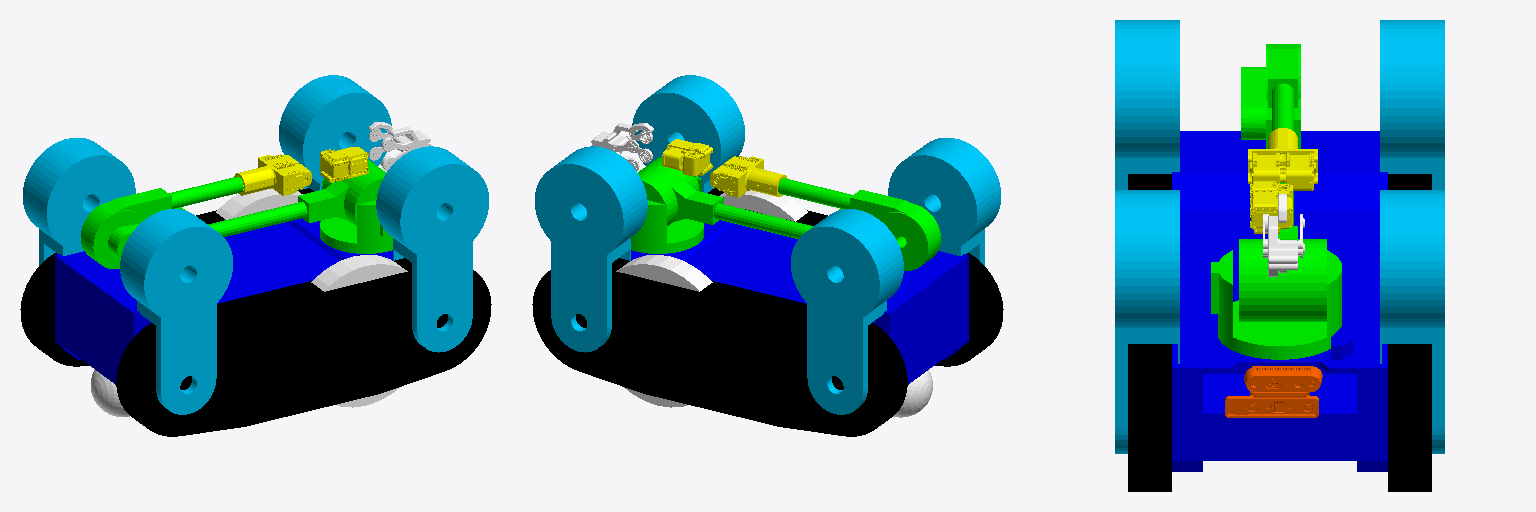
--- Render facts (derived) ---
The picture shows the robot from 3 angles, left to right: view 1: azimuth 30°, elevation 25°; view 2: azimuth 150°, elevation 25°; view 3: azimuth 270°, elevation 25°; orthographic projection.
Robot: arbie — 29 links, 28 joints (17 continuous, 11 fixed); root link base_link; default pose: every joint at zero.
Links seen in each view (by area): view 1: tracks_right_link, flipper_front_right_link, flipper_rear_right_link, body_link, flipper_rear_left_link, flipper_front_left_link, arm_lower_link, tracks_left_link, arm_upper_link, arm_base_link, tracks_right_wheel_link, wrist_base_link (+4 smaller); view 2: tracks_left_link, flipper_front_left_link, flipper_rear_left_link, body_link, flipper_rear_right_link, flipper_front_right_link, arm_lower_link, tracks_right_link, arm_upper_link, arm_base_link, tracks_left_wheel_link, wrist_base_link (+4 smaller); view 3: body_link, flipper_front_right_link, flipper_front_left_link, flipper_rear_right_link, flipper_rear_left_link, arm_lower_link, tracks_right_link, tracks_left_link, arm_base_link, wrist_base_link, arm_upper_link, camera_t265_link (+3 smaller).
Boxes of the visible links, bbox=[...] form: tracks_right_link: bbox=[116, 258, 491, 436]; flipper_front_right_link: bbox=[376, 146, 488, 352]; flipper_rear_right_link: bbox=[120, 209, 232, 414]; body_link: bbox=[55, 218, 392, 384]; flipper_rear_left_link: bbox=[23, 138, 135, 265]; flipper_front_left_link: bbox=[279, 75, 391, 191]; arm_lower_link: bbox=[81, 160, 385, 268]; tracks_left_link: bbox=[20, 188, 313, 366]; arm_upper_link: bbox=[81, 177, 243, 263]; arm_base_link: bbox=[320, 179, 392, 253]; tracks_right_wheel_link: bbox=[311, 255, 407, 407]; wrist_base_link: bbox=[234, 154, 311, 195]; tracks_left_link: bbox=[532, 258, 907, 436]; flipper_front_left_link: bbox=[535, 146, 647, 352]; flipper_rear_left_link: bbox=[791, 209, 903, 414]; body_link: bbox=[631, 220, 968, 384]; flipper_rear_right_link: bbox=[888, 138, 1000, 265]; flipper_front_right_link: bbox=[632, 75, 744, 192]; arm_lower_link: bbox=[638, 157, 940, 270]; tracks_right_link: bbox=[708, 188, 1003, 366]; arm_upper_link: bbox=[778, 178, 939, 263]; arm_base_link: bbox=[631, 176, 703, 253]; tracks_left_wheel_link: bbox=[616, 255, 712, 407]; wrist_base_link: bbox=[710, 156, 787, 197]; body_link: bbox=[1172, 131, 1387, 471]; flipper_front_right_link: bbox=[1115, 190, 1179, 453]; flipper_front_left_link: bbox=[1380, 190, 1444, 453]; flipper_rear_right_link: bbox=[1115, 20, 1179, 189]; flipper_rear_left_link: bbox=[1380, 20, 1444, 189]; arm_lower_link: bbox=[1239, 44, 1326, 321]; tracks_right_link: bbox=[1128, 174, 1171, 491]; tracks_left_link: bbox=[1388, 174, 1431, 491]; arm_base_link: bbox=[1211, 250, 1341, 359]; wrist_base_link: bbox=[1248, 128, 1317, 190]; arm_upper_link: bbox=[1268, 44, 1297, 130]; camera_t265_link: bbox=[1225, 396, 1318, 417].
Bounding box of the posed robot: 0.6448 × 0.378 × 0.3946 m (x, y, z).
Meshes: 25 distinct files referenced, 23 mesh visuals loaded (23 binary STL); not drawn: 2 (reference not matched to a file when rendering).

The robot description file, URDF, robot "arbie":
<?xml version="1.0" encoding="utf-8"?>
<!-- =================================================================================== -->
<!-- |    This document was autogenerated by xacro from arbie_sim.urdf.xacro           | -->
<!-- |    EDITING THIS FILE BY HAND IS NOT RECOMMENDED                                 | -->
<!-- =================================================================================== -->
<robot name="arbie">
  <material name="body">
    <color rgba="0 0 1 1"/>
  </material>
  <material name="flipper">
    <color rgba="0 0.8 1 1"/>
  </material>
  <material name="tracks">
    <color rgba="0 0 0 0.5"/>
  </material>
  <material name="wheel">
    <color rgba="1 1 1 0.8"/>
  </material>
  <material name="arm">
    <color rgba="0 1 0 1"/>
  </material>
  <material name="wrist">
    <color rgba="1 1 0 1"/>
  </material>
  <material name="gripper">
    <color rgba="1 1 1 1"/>
  </material>
  <material name="camera">
    <color rgba="1 0.4 0 1"/>
  </material>
  <!-- CAMERA FRAMES AND PLUGINS PLUGINS -->
  <gazebo reference="camera_t265_link">
    <sensor name="t265_camera" type="multicamera">
      <update_rate>30.0</update_rate>
      <camera name="left">
        <pose>0 0.035 0 0 0 0</pose>
        <horizontal_fov>1.3962634</horizontal_fov>
        <image>
          <width>800</width>
          <height>800</height>
          <format>R8G8B8</format>
        </image>
        <clip>
          <near>0.02</near>
          <far>300</far>
        </clip>
        <noise>
          <type>gaussian</type>
          <mean>0.0</mean>
          <stddev>0.007</stddev>
        </noise>
      </camera>
      <camera name="right">
        <pose>0 -0.035 0 0 0 0</pose>
        <horizontal_fov>1.3962634</horizontal_fov>
        <image>
          <width>800</width>
          <height>800</height>
          <format>R8G8B8</format>
        </image>
        <clip>
          <near>0.02</near>
          <far>300</far>
        </clip>
        <noise>
          <type>gaussian</type>
          <mean>0.0</mean>
          <stddev>0.007</stddev>
        </noise>
      </camera>
      <plugin filename="libgazebo_ros_multicamera.so" name="t265_camera_controller">
        <alwaysOn>true</alwaysOn>
        <updateRate>0.0</updateRate>
        <cameraName>t265</cameraName>
        <imageTopicName>image_raw</imageTopicName>
        <cameraInfoTopicName>camera_info</cameraInfoTopicName>
        <frameName>camera_t265_link</frameName>
        <hackBaseline>0.07</hackBaseline>
        <distortionK1>0.0</distortionK1>
        <distortionK2>0.0</distortionK2>
        <distortionK3>0.0</distortionK3>
        <distortionT1>0.0</distortionT1>
        <distortionT2>0.0</distortionT2>
      </plugin>
    </sensor>
  </gazebo>
  <gazebo reference="camera_t265_link">
    <gravity>true</gravity>
    <sensor name="t265_imu" type="imu">
      <always_on>true</always_on>
      <update_rate>30.0</update_rate>
      <visualize>true</visualize>
      <topic>/t265/imu</topic>
      <plugin filename="libgazebo_ros_imu_sensor.so" name="t265_imu_controller">
        <topicName>/t265/imu</topicName>
        <bodyName>camera_t265_link</bodyName>
        <updateRateHZ>10.0</updateRateHZ>
        <gaussianNoise>0.0</gaussianNoise>
        <xyzOffset>0 0 0</xyzOffset>
        <rpyOffset>0 0 0</rpyOffset>
        <frameName>camera_t265_link</frameName>
        <initialOrientationAsReference>false</initialOrientationAsReference>
      </plugin>
      <pose>0 0 0 0 0 0</pose>
    </sensor>
  </gazebo>
  <gazebo reference="camera_d435_link">
    <sensor name="d435_camera" type="depth">
      <update_rate>30.0</update_rate>
      <camera>
        <horizontal_fov>1.047198</horizontal_fov>
        <image>
          <width>640</width>
          <height>480</height>
          <format>R8G8B8</format>
        </image>
        <clip>
          <near>0.05</near>
          <far>300</far>
        </clip>
      </camera>
      <plugin filename="libgazebo_ros_openni_kinect.so" name="d435_camera_controller">
        <baseline>0.2</baseline>
        <alwaysOn>true</alwaysOn>
        <updateRate>1.0</updateRate>
        <cameraName>d435</cameraName>
        <imageTopicName>/d435/color/image_raw</imageTopicName>
        <cameraInfoTopicName>/d435/color/camera_info</cameraInfoTopicName>
        <depthImageTopicName>/d435/depth/image_raw</depthImageTopicName>
        <depthImageInfoTopicName>/d435/depth/camera_info</depthImageInfoTopicName>
        <pointCloudTopicName>/d435/depth/points</pointCloudTopicName>
        <frameName>camera_d435_link</frameName>
        <pointCloudCutoff>0.5</pointCloudCutoff>
        <pointCloudCutoffMax>3.0</pointCloudCutoffMax>
        <distortionK1>0.00000001</distortionK1>
        <distortionK2>0.00000001</distortionK2>
        <distortionK3>0.00000001</distortionK3>
        <distortionT1>0.00000001</distortionT1>
        <distortionT2>0.00000001</distortionT2>
        <CxPrime>0</CxPrime>
        <Cx>0</Cx>
        <Cy>0</Cy>
        <focalLength>0</focalLength>
        <hackBaseline>0</hackBaseline>
      </plugin>
    </sensor>
  </gazebo>
  <gazebo reference="camera_d435_link">
    <gravity>true</gravity>
    <sensor name="d435_imu" type="imu">
      <always_on>true</always_on>
      <update_rate>30.0</update_rate>
      <visualize>true</visualize>
      <topic>/d435/imu</topic>
      <plugin filename="libgazebo_ros_imu_sensor.so" name="d435_imu_controller">
        <topicName>/d435/imu</topicName>
        <bodyName>camera_d435_link</bodyName>
        <updateRateHZ>10.0</updateRateHZ>
        <gaussianNoise>0.0</gaussianNoise>
        <xyzOffset>0 0 0</xyzOffset>
        <rpyOffset>0 0 0</rpyOffset>
        <frameName>camera_d435_link</frameName>
        <initialOrientationAsReference>false</initialOrientationAsReference>
      </plugin>
      <pose>0 0 0 0 0 0</pose>
    </sensor>
  </gazebo>
  <!-- BASE LINK -->
  <link name="base_link">
</link>
  <joint name="base_joint" type="fixed">
    <origin rpy="1.5708 0 1.5708" xyz="0.01 0 0.075"/>
    <parent link="base_link"/>
    <child link="body_link"/>
  </joint>
  <!-- BODY LINK -->
  <link name="body_link">
    <inertial>
      <origin rpy="0 0 0" xyz="-0.0007103904794560104 0.04685539726506198 -0.03652499028281223"/>
      <mass value="132.38352048208554"/>
      <inertia ixx="3.87908" ixy="-0.00108" ixz="-0.002599" iyy="4.409886" iyz="0.163573" izz="0.920138"/>
    </inertial>
    <visual>
      <origin rpy="0 0 0" xyz="0 0 0"/>
      <geometry>
        <mesh filename="package://arbie_description/meshes/body.stl"/>
      </geometry>
      <material name="body"/>
    </visual>
    <collision>
      <origin rpy="0 0 0" xyz="0 0 0"/>
      <geometry>
        <mesh filename="package://arbie_description/meshes/body.stl"/>
      </geometry>
    </collision>
  </link>
  <!-- CAMERA LINKS -->
  <link name="camera_mount_leg_1_link">
    <inertial>
      <origin rpy="0 0 0" xyz="-0.003687719231986318 0.005710165082249932 -1.3429420225863353e-07"/>
      <mass value="0.011972469965960587"/>
      <inertia ixx="1e-06" ixy="0.0" ixz="-0.0" iyy="0.0" iyz="0.0" izz="1e-06"/>
    </inertial>
    <visual>
      <origin rpy="0 0 0" xyz="-0.037807 -0.048101 -0.262572"/>
      <geometry>
        <mesh filename="package://arbie_description/meshes/camera_mount_leg_1.stl"/>
      </geometry>
      <material name="camera"/>
    </visual>
    <collision>
      <origin rpy="0 0 0" xyz="-0.037807 -0.048101 -0.262572"/>
      <geometry>
        <mesh filename="package://arbie_description/meshes/camera_mount_leg_1.stl"/>
      </geometry>
    </collision>
  </link>
  <link name="camera_mount_leg_2_link">
    <inertial>
      <origin rpy="0 0 0" xyz="0.0036876320544024996 0.005710165082249995 -1.3429420259170044e-07"/>
      <mass value="0.011972469965960601"/>
      <inertia ixx="1e-06" ixy="-0.0" ixz="0.0" iyy="0.0" iyz="-0.0" izz="1e-06"/>
    </inertial>
    <visual>
      <origin rpy="0 0 0" xyz="0.039194 -0.048101 -0.262572"/>
      <geometry>
        <mesh filename="package://arbie_description/meshes/camera_mount_leg_2.stl"/>
      </geometry>
      <material name="camera"/>
    </visual>
    <collision>
      <origin rpy="0 0 0" xyz="0.039194 -0.048101 -0.262572"/>
      <geometry>
        <mesh filename="package://arbie_description/meshes/camera_mount_leg_2.stl"/>
      </geometry>
    </collision>
  </link>
  <link name="camera_mount_link">
    <inertial>
      <origin rpy="0 0 0" xyz="-0.03446385172095636 0.0015631569649731947 0.008958079682170272"/>
      <mass value="0.10512980225278633"/>
      <inertia ixx="1.6e-05" ixy="-2e-06" ixz="1e-06" iyy="5.6e-05" iyz="3e-06" izz="5.4e-05"/>
    </inertial>
    <visual>
      <origin rpy="0 0 0" xyz="-0.033807 -0.073851 -0.262572"/>
      <geometry>
        <mesh filename="package://arbie_description/meshes/camera_mount.stl"/>
      </geometry>
      <material name="camera"/>
    </visual>
    <collision>
      <origin rpy="0 0 0" xyz="-0.033807 -0.073851 -0.262572"/>
      <geometry>
        <mesh filename="package://arbie_description/meshes/camera_mount.stl"/>
      </geometry>
    </collision>
  </link>
  <link name="camera_d435_link">
    <inertial>
      <origin rpy="-1.57079632679 -3.14159265359 -1.57079632679" xyz="-0.00997485340212 -0.000489026194926 0.000287807668346"/>
      <mass value="0.3380578483539848"/>
      <inertia ixx="3.1e-05" ixy="-0.0" ixz="2e-06" iyy="0.000212" iyz="-0.0" izz="0.000211"/>
    </inertial>
    <visual>
      <origin rpy="-1.57079632679 -3.14159265359 -1.57079632679" xyz="-0.285 0.00125 -0.09"/>
      <geometry>
        <mesh filename="package://arbie_description/meshes/camera_d435.stl"/>
      </geometry>
      <material name="camera"/>
    </visual>
    <collision>
      <origin rpy="-1.57079632679 -3.14159265359 -1.57079632679" xyz="-0.285 0.00125 -0.09"/>
      <geometry>
        <mesh filename="package://arbie_description/meshes/camera_d435.stl"/>
      </geometry>
    </collision>
  </link>
  <joint name="rigid_camera_mount_to_camera_d435_joint" type="fixed">
    <origin rpy="-1.57079632679 -1.57079632679 0" xyz="-0.032557 0.016149 0.022428"/>
    <parent link="camera_mount_link"/>
    <child link="camera_d435_link"/>
  </joint>
  <link name="camera_t265_link">
    <inertial>
      <origin rpy="-1.57079632679 -3.14159265359 -1.57079632679" xyz="-0.0051159762466 0.00725377525549 0"/>
      <mass value="0.11087104010777465"/>
      <inertia ixx="7e-06" ixy="0.0" ixz="-1e-06" iyy="0.000103" iyz="-0.0" izz="0.000108"/>
    </inertial>
    <visual>
      <origin rpy="-1.57079632679 -3.14159265359 -1.57079632679" xyz="-0.286572 -0.000323 -0.060351 "/>
      <geometry>
        <mesh filename="package://arbie_description/meshes/camera_t265.stl"/>
      </geometry>
      <material name="camera"/>
    </visual>
    <collision>
      <origin rpy="-1.57079632679 -3.14159265359 -1.57079632679" xyz="-0.286572 -0.000323 -0.060351 "/>
      <geometry>
        <mesh filename="package://arbie_description/meshes/camera_t265.stl"/>
      </geometry>
    </collision>
  </link>
  <joint name="rigid_camera_mount_to_camera_t265_joint" type="fixed">
    <origin rpy="-1.57079632679 -1.57079632679 0" xyz="-0.03413 -0.0135 0.024"/>
    <parent link="camera_mount_link"/>
    <child link="camera_t265_link"/>
  </joint>
  <!-- BOUNDING MESH FOR TRACKS -->
  <link name="tracks_right_link">
    <inertial>
      <origin rpy="0 0 0" xyz="-0.02499954358879042 0.002120489076708521 -0.0007430080149572974"/>
      <mass value="44.76242127990538"/>
      <inertia ixx="1.472289" ixy="-0.0" ixz="-0.0" iyy="1.350001" iyz="0.000109" izz="0.140939"/>
    </inertial>
    <visual>
      <origin rpy="0 0 0" xyz="0.124694 -0.019326 0.010978"/>
      <geometry>
        <mesh filename="package://arbie_description/meshes/tracks_right.stl"/>
      </geometry>
      <material name="tracks"/>
    </visual>
    <collision>
      <origin rpy="0 0 0" xyz="0.124694 -0.019326 0.010978"/>
      <geometry>
        <mesh filename="package://arbie_description/meshes/tracks_right.stl"/>
      </geometry>
    </collision>
  </link>
  <link name="tracks_left_link">
    <inertial>
      <origin rpy="0 0 0" xyz="0.02500045641121243 0.00212048907670849 -0.000743015955378042"/>
      <mass value="44.76242127990538"/>
      <inertia ixx="1.472289" ixy="-0.0" ixz="-0.0" iyy="1.350001" iyz="0.000109" izz="0.140939"/>
    </inertial>
    <visual>
      <origin rpy="0 0 0" xyz="-0.123306 -0.019326 0.010978"/>
      <geometry>
        <mesh filename="package://arbie_description/meshes/tracks_left.stl"/>
      </geometry>
      <material name="tracks"/>
    </visual>
    <collision>
      <origin rpy="0 0 0" xyz="-0.123306 -0.019326 0.010978"/>
      <geometry>
        <mesh filename="package://arbie_description/meshes/tracks_left.stl"/>
      </geometry>
    </collision>
  </link>
  <!-- RIGID JOINTS -->
  <joint name="rigid_body_to_tracks_right_joint" type="fixed">
    <origin rpy="0 0 0" xyz="-0.124694 0.019326 -0.010978"/>
    <parent link="body_link"/>
    <child link="tracks_right_link"/>
  </joint>
  <joint name="rigid_body_to_tracks_left_joint" type="fixed">
    <origin rpy="0 0 0" xyz="0.123306 0.019326 -0.010978"/>
    <parent link="body_link"/>
    <child link="tracks_left_link"/>
  </joint>
  <joint name="rigid_body_to_camera_mount_leg_1_joint" type="fixed">
    <origin rpy="0 0 0" xyz="0.037807 0.048101 0.262572"/>
    <parent link="body_link"/>
    <child link="camera_mount_leg_1_link"/>
  </joint>
  <joint name="rigid_body_to_camera_mount_leg_2_joint" type="fixed">
    <origin rpy="0 0 0" xyz="-0.039194 0.048101 0.262572"/>
    <parent link="body_link"/>
    <child link="camera_mount_leg_2_link"/>
  </joint>
  <!-- CAMERA MOUNT JOINT -->
  <joint name="camera_tilt_joint" type="continuous">
    <origin rpy="0 0 0" xyz="-0.004 0.02575 0.0"/>
    <parent link="camera_mount_leg_1_link"/>
    <child link="camera_mount_link"/>
    <axis xyz="1 0 0"/>
  </joint>
  <transmission name="camera_mount_transmission">
    <type>transmission_interface/SimpleTransmission</type>
    <joint name="camera_tilt_joint">
      <hardwareInterface>hardware_interface/PositionJointInterface</hardwareInterface>
    </joint>
    <actuator name="camera_mount_actuator">
      <hardwareInterface>PositionJointInterface</hardwareInterface>
      <mechanicalReduction>1</mechanicalReduction>
    </actuator>
  </transmission>
  <!-- EQUIVALENT WHEELS FOR TRACKS - USED TO CALCULATE VELOCITY COMMANDS -->
  <link name="tracks_right_wheel_link">
    <visual>
      <origin rpy="0 1.57079632679 0" xyz="0 0 0"/>
      <geometry>
        <cylinder length="0.04" radius="0.12"/>
      </geometry>
      <material name="wheel"/>
    </visual>
    <collision>
      <origin rpy="0 1.57079632679 0" xyz="0 0 0"/>
      <geometry>
        <cylinder length="0.04" radius="0.12"/>
      </geometry>
    </collision>
    <inertial>
      <origin rpy="0 1.57079632679 0" xyz="0 0 0"/>
      <mass value="0.5"/>
      <inertia ixx="0.00186666666667" ixy="0" ixz="0" iyy="0.00186666666667" iyz="0" izz="0.0036"/>
    </inertial>
  </link>
  <link name="tracks_left_wheel_link">
    <visual>
      <origin rpy="0 1.57079632679 0" xyz="0 0 0"/>
      <geometry>
        <cylinder length="0.04" radius="0.12"/>
      </geometry>
      <material name="wheel"/>
    </visual>
    <collision>
      <origin rpy="0 1.57079632679 0" xyz="0 0 0"/>
      <geometry>
        <cylinder length="0.04" radius="0.12"/>
      </geometry>
    </collision>
    <inertial>
      <origin rpy="0 1.57079632679 0" xyz="0 0 0"/>
      <mass value="0.5"/>
      <inertia ixx="0.00186666666667" ixy="0" ixz="0" iyy="0.00186666666667" iyz="0" izz="0.0036"/>
    </inertial>
  </link>
  <!-- TRACK WHEEL JOINTS -->
  <joint name="tracks_right_joint" type="continuous">
    <origin rpy="0 0 0" xyz="-0.025 0.005 0.1"/>
    <parent link="tracks_right_link"/>
    <child link="tracks_right_wheel_link"/>
    <axis xyz="1 0 0"/>
  </joint>
  <joint name="tracks_left_joint" type="continuous">
    <origin rpy="0 0 0" xyz="0.025 0.005 0.1"/>
    <parent link="tracks_left_link"/>
    <child link="tracks_left_wheel_link"/>
    <axis xyz="1 0 0"/>
  </joint>
  <transmission name="tracks_right_transmission">
    <type>transmission_interface/SimpleTransmission</type>
    <joint name="tracks_right_joint">
      <hardwareInterface>hardware_interface/VelocityJointInterface</hardwareInterface>
    </joint>
    <actuator name="tracks_right_actuator">
      <hardwareInterface>VelocityJointInterface</hardwareInterface>
      <mechanicalReduction>1</mechanicalReduction>
    </actuator>
  </transmission>
  <transmission name="tracks_left_transmission">
    <type>transmission_interface/SimpleTransmission</type>
    <joint name="tracks_left_joint">
      <hardwareInterface>hardware_interface/VelocityJointInterface</hardwareInterface>
    </joint>
    <actuator name="tracks_left_actuator">
      <hardwareInterface>VelocityJointInterface</hardwareInterface>
      <mechanicalReduction>1</mechanicalReduction>
    </actuator>
  </transmission>
  <!-- BALL -->
  <link name="ball_link">
    <visual>
      <geometry>
        <sphere radius="0.05"/>
      </geometry>
      <material name="wheel"/>
    </visual>
    <collision>
      <geometry>
        <sphere radius="0.05"/>
      </geometry>
    </collision>
    <inertial>
      <mass value="1"/>
      <inertia ixx="0.001" ixy="0" ixz="0" iyy="0.001" iyz="0" izz="0.001"/>
    </inertial>
  </link>
  <gazebo reference="ball_link">
    <mu1>0</mu1>
    <mu2>0</mu2>
  </gazebo>
  <joint name="rigid_body_to_ball_joint" type="fixed">
    <origin rpy="0 0 0" xyz="0 -0.05 -0.25"/>
    <parent link="body_link"/>
    <child link="ball_link"/>
  </joint>
  <gazebo>
    <plugin filename="libgazebo_ros_control.so" name="gazebo_ros_control"/>
  </gazebo>
  <!-- FLIPPER LINKS -->
  <link name="flipper_front_right_link">
    <inertial>
      <origin rpy="0 0 0" xyz="0.019795020283170317 0.16537558379618636 -1.3146244423611897e-07"/>
      <mass value="13.868020437393694"/>
      <inertia ixx="0.085351" ixy="-0.004876" ixz="0.0" iyy="0.028555" iyz="-0.0" izz="0.07162"/>
    </inertial>
    <visual>
      <origin rpy="0 0 0" xyz="0.174694 -0.024729 -0.219022"/>
      <geometry>
        <mesh filename="package://arbie_description/meshes/flipper_front_right.stl"/>
      </geometry>
      <material name="flipper"/>
    </visual>
    <collision>
      <origin rpy="0 0 0" xyz="0.174694 -0.024729 -0.219022"/>
      <geometry>
        <mesh filename="package://arbie_description/meshes/flipper_front_right.stl"/>
      </geometry>
    </collision>
  </link>
  <link name="flipper_front_left_link">
    <inertial>
      <origin rpy="0 0 0" xyz="-0.019794107460748195 0.16537558379618633 -1.394028636692024e-07"/>
      <mass value="13.868020437393678"/>
      <inertia ixx="0.085351" ixy="0.004876" ixz="-0.0" iyy="0.028555" iyz="-0.0" izz="0.07162"/>
    </inertial>
    <visual>
      <origin rpy="0 0 0" xyz="-0.173306 -0.024729 -0.219022"/>
      <geometry>
        <mesh filename="package://arbie_description/meshes/flipper_front_left.stl"/>
      </geometry>
      <material name="flipper"/>
    </visual>
    <collision>
      <origin rpy="0 0 0" xyz="-0.173306 -0.024729 -0.219022"/>
      <geometry>
        <mesh filename="package://arbie_description/meshes/flipper_front_left.stl"/>
      </geometry>
    </collision>
  </link>
  <link name="flipper_rear_right_link">
    <inertial>
      <origin rpy="0 0 0" xyz="0.01979502028317115 0.16537558379618683 -1.3146242511252737e-07"/>
      <mass value="13.868020437393698"/>
      <inertia ixx="0.085351" ixy="-0.004876" ixz="0.0" iyy="0.028555" iyz="-0.0" izz="0.07162"/>
    </inertial>
    <visual>
      <origin rpy="0 0 0" xyz="0.174694 -0.024729 0.240978"/>
      <geometry>
        <mesh filename="package://arbie_description/meshes/flipper_rear_right.stl"/>
      </geometry>
      <material name="flipper"/>
    </visual>
    <collision>
      <origin rpy="0 0 0" xyz="0.174694 -0.024729 0.240978"/>
      <geometry>
        <mesh filename="package://arbie_description/meshes/flipper_rear_right.stl"/>
      </geometry>
    </collision>
  </link>
  <link name="flipper_rear_left_link">
    <inertial>
      <origin rpy="0 0 0" xyz="-0.019794107460749416 0.16537558379618675 -1.394028462664565e-07"/>
      <mass value="13.868020437393671"/>
      <inertia ixx="0.085351" ixy="0.004876" ixz="-0.0" iyy="0.028555" iyz="-0.0" izz="0.07162"/>
    </inertial>
    <visual>
      <origin rpy="0 0 0" xyz="-0.173306 -0.024729 0.240978"/>
      <geometry>
        <mesh filename="package://arbie_description/meshes/flipper_rear_left.stl"/>
      </geometry>
      <material name="flipper"/>
    </visual>
    <collision>
      <origin rpy="0 0 0" xyz="-0.173306 -0.024729 0.240978"/>
      <geometry>
        <mesh filename="package://arbie_description/meshes/flipper_rear_left.stl"/>
      </geometry>
    </collision>
  </link>
  <!-- RIGID LINKS BETWEEN OPPOSITE FLIPPERS -->
  <joint name="rigid_flipper_front_right_to_flipper_front_left" type="fixed">
    <origin rpy="0 0 0" xyz="0.347996 0 0"/>
    <parent link="flipper_front_right_link"/>
    <child link="flipper_front_left_link"/>
  </joint>
  <joint name="rigid_flipper_rear_right_to_flipper_rear_left" type="fixed">
    <origin rpy="0 0 0" xyz="0.347996 0 0"/>
    <parent link="flipper_rear_right_link"/>
    <child link="flipper_rear_left_link"/>
  </joint>
  <!-- FLIPPER JOINTS -->
  <joint name="flippers_front_joint" type="continuous">
    <origin rpy="0 0 0" xyz="-0.05 0.005403 0.23"/>
    <parent link="tracks_right_link"/>
    <child link="flipper_front_right_link"/>
    <axis xyz="1 0 0"/>
  </joint>
  <transmission name="flippers_front_transmission">
    <type>transmission_interface/SimpleTransmission</type>
    <joint name="flippers_front_joint">
      <hardwareInterface>hardware_interface/EffortJointInterface</hardwareInterface>
    </joint>
    <actuator name="flippers_front_actuator">
      <hardwareInterface>EffortJointInterface</hardwareInterface>
      <mechanicalReduction>1</mechanicalReduction>
    </actuator>
  </transmission>
  <joint name="flippers_rear_joint" type="continuous">
    <origin rpy="0 0 0" xyz="-0.05 0.005403 -0.23"/>
    <parent link="tracks_right_link"/>
    <child link="flipper_rear_right_link"/>
    <axis xyz="1 0 0"/>
  </joint>
  <transmission name="flippers_rear_transmission">
    <type>transmission_interface/SimpleTransmission</type>
    <joint name="flippers_rear_joint">
      <hardwareInterface>hardware_interface/EffortJointInterface</hardwareInterface>
    </joint>
    <actuator name="flippers_rear_actuator">
      <hardwareInterface>EffortJointInterface</hardwareInterface>
      <mechanicalReduction>1</mechanicalReduction>
    </actuator>
  </transmission>
  <!-- ARM LINKS -->
  <link name="arm_base_link">
    <inertial>
      <origin rpy="0 0 0" xyz="-0.0016420049931783305 0.023135022831294483 -7.480052882286037e-06"/>
      <mass value="3.3465093478653403"/>
      <inertia ixx="0.005075" ixy="0.000176" ixz="-0.0" iyy="0.010632" iyz="1e-06" izz="0.009087"/>
    </inertial>
    <visual>
      <origin rpy="0 0 0" xyz="0.000694 -0.107101 -0.186272"/>
      <geometry>
        <mesh filename="package://arbie_description/meshes/arm_base.stl"/>
      </geometry>
      <material name="arm"/>
    </visual>
    <collision>
      <origin rpy="0 0 0" xyz="0.000694 -0.107101 -0.186272"/>
      <geometry>
        <mesh filename="package://arbie_description/meshes/arm_base.stl"/>
      </geometry>
    </collision>
  </link>
  <link name="arm_lower_link">
    <inertial>
      <origin rpy="0 0 0" xyz="-0.053878611230066 0.007243666919340863 -0.13003163766238773"/>
      <mass value="9.290217371436244"/>
      <inertia ixx="0.285483" ixy="0.000938" ixz="-0.009995" iyy="0.285913" iyz="0.0181" izz="0.011485"/>
    </inertial>
    <visual>
      <origin rpy="0 0 0" xyz="-0.052806 -0.174101 -0.186495"/>
      <geometry>
        <mesh filename="package://arbie_description/meshes/arm_lower.stl"/>
      </geometry>
      <material name="arm"/>
    </visual>
    <collision>
      <origin rpy="0 0 0" xyz="-0.052806 -0.174101 -0.186495"/>
      <geometry>
        <mesh filename="package://arbie_description/meshes/arm_lower.stl"/>
      </geometry>
    </collision>
  </link>
  <link name="arm_upper_link">
    <inertial>
      <origin rpy="0 0 0" xyz="-0.016999544747906395 0.013376208584352511 0.039239753662060034"/>
      <mass value="3.0631873001334227"/>
      <inertia ixx="0.015235" ixy="0.0" ixz="0.0" iyy="0.013273" iyz="-0.002633" izz="0.002494"/>
    </inertial>
    <visual>
      <origin rpy="0 0 0" xyz="-0.019806 -0.209101 0.263505"/>
      <geometry>
        <mesh filename="package://arbie_description/meshes/arm_upper.stl"/>
      </geometry>
      <material name="arm"/>
    </visual>
    <collision>
      <origin rpy="0 0 0" xyz="-0.019806 -0.209101 0.263505"/>
      <geometry>
        <mesh filename="package://arbie_description/meshes/arm_upper.stl"/>
      </geometry>
    </collision>
  </link>
  <!-- WRIST LINKS -->
  <link name="wrist_base_link">
    <inertial>
      <origin rpy="0 0 0" xyz="4.57436623640603e-07 0.00012475245793225342 0.025292868333247724"/>
      <mass value="0.9490572232520995"/>
      <inertia ixx="0.000757" ixy="1e-06" ixz="-0.0" iyy="0.001107" iyz="2e-06" izz="0.000496"/>
    </inertial>
    <visual>
      <origin rpy="0 0 0" xyz="-0.002806 -0.244101 0.038505"/>
      <geometry>
        <mesh filename="package://arbie_description/meshes/wrist_base.stl"/>
      </geometry>
      <material name="wrist"/>
    </visual>
    <collision>
      <origin rpy="0 0 0" xyz="-0.002806 -0.244101 0.038505"/>
      <geometry>
        <mesh filename="package://arbie_description/meshes/wrist_base.stl"/>
      </geometry>
    </collision>
  </link>
  <link name="wrist_pitch_link">
    <inertial>
      <origin rpy="0 0 0" xyz="-0.0332984740595477 0.0020671950198172806 0.02282064850736746"/>
      <mass value="0.08039663104912372"/>
      <inertia ixx="5.5e-05" ixy="0.0" ixz="0.0" iyy="9.5e-05" iyz="-7e-06" izz="8e-05"/>
    </inertial>
    <visual>
      <origin rpy="0 0 0" xyz="-0.036206 -0.244101 -0.014995"/>
      <geometry>
        <mesh filename="package://arbie_description/meshes/wrist_pitch.stl"/>
      </geometry>
      <material name="wrist"/>
    </visual>
    <collision>
      <origin rpy="0 0 0" xyz="-0.036206 -0.244101 -0.014995"/>
      <geometry>
        <mesh filename="package://arbie_description/meshes/wrist_pitch.stl"/>
      </geometry>
    </collision>
  </link>
  <link name="wrist_yaw_link">
    <inertial>
      <origin rpy="0 0 0" xyz="-0.013267784777998575 0.01927575393175185 0.016285676232992735"/>
      <mass value="0.6469480906726006"/>
      <inertia ixx="0.000275" ixy="2e-06" ixz="2e-06" iyy="0.000342" iyz="3e-06" izz="0.000171"/>
    </inertial>
    <visual>
      <origin rpy="0 0 0" xyz="-0.002906 -0.225651 -0.078119"/>
      <geometry>
        <mesh filename="package://arbie_description/meshes/wrist_yaw.stl"/>
      </geometry>
      <material name="wrist"/>
    </visual>
    <collision>
      <origin rpy="0 0 0" xyz="-0.002906 -0.225651 -0.078119"/>
      <geometry>
        <mesh filename="package://arbie_description/meshes/wrist_yaw.stl"/>
      </geometry>
    </collision>
  </link>
  <!-- GRIPPER LINKS -->
  <link name="gripper_base_link">
    <inertial>
      <origin rpy="0 0 0" xyz="-4.607760189011137e-05 -0.0006917471996047975 0.03460710409065769"/>
      <mass value="0.6706735500880907"/>
      <inertia ixx="0.000199" ixy="0.0" ixz="0.0" iyy="0.000353" iyz="-3e-06" izz="0.000284"/>
    </inertial>
    <visual>
      <origin rpy="0 0 0" xyz="-0.002906 -0.244651 -0.123519"/>
      <geometry>
        <mesh filename="package://arbie_description/meshes/gripper_base.stl"/>
      </geometry>
      <material name="gripper"/>
    </visual>
    <collision>
      <origin rpy="0 0 0" xyz="-0.002906 -0.244651 -0.123519"/>
      <geometry>
        <mesh filename="package://arbie_description/meshes/gripper_base.stl"/>
      </geometry>
    </collision>
  </link>
  <link name="gripper_right_driver_link">
    <inertial>
      <origin rpy="0 0 0" xyz="4.537220775792383e-07 -0.03094002747411953 0.004350576193156569"/>
      <mass value="0.01374798583124482"/>
      <inertia ixx="5e-06" ixy="-0.0" ixz="0.0" iyy="2e-06" iyz="-1e-06" izz="4e-06"/>
    </inertial>
    <visual>
      <origin rpy="0 0 0" xyz="-0.018906 -0.263651 -0.172219"/>
      <geometry>
        <mesh filename="package://arbie_description/meshes/gripper_right_driver.stl"/>
      </geometry>
      <material name="gripper"/>
    </visual>
    <collision>
      <origin rpy="0 0 0" xyz="-0.018906 -0.263651 -0.172219"/>
      <geometry>
        <mesh filename="package://arbie_description/meshes/gripper_right_driver.stl"/>
      </geometry>
    </collision>
  </link>
  <link name="gripper_right_linkage_link">
    <inertial>
      <origin rpy="0 0 0" xyz="0.005348977862044579 0.00500022075444323 -0.01750042810563407"/>
      <mass value="0.00386409068463368"/>
      <inertia ixx="1e-06" ixy="0.0" ixz="0.0" iyy="1e-06" iyz="-0.0" izz="0.0"/>
    </inertial>
    <visual>
      <origin rpy="0 0 0" xyz="0.015 -0.485 -0.09"/>
      <geometry>
        <mesh filename="package://arbie_description/meshes/gripper_right_linkage.stl"/>
      </geometry>
      <material name="gripper"/>
    </visual>
    <collision>
      <origin rpy="0 0 0" xyz="-0.03671 -0.238651 0.153719"/>
      <geometry>
        <mesh filename="package://arbie_description/meshes/gripper_right_linkage.stl"/>
      </geometry>
    </collision>
  </link>
  <link name="gripper_right_contact_link">
    <inertial>
      <origin rpy="0 0 0" xyz="0.004967829686739981 -0.01899661466926142 0.016466890477460472"/>
      <mass value="0.023712538812289255"/>
      <inertia ixx="7e-06" ixy="1e-06" ixz="2e-06" iyy="7e-06" iyz="-1e-06" izz="4e-06"/>
    </inertial>
    <visual>
      <origin rpy="0 0 0" xyz="-0.018906 -0.261251 -0.207219"/>
      <geometry>
        <mesh filename="package://arbie_description/meshes/gripper_right_contact.stl"/>
      </geometry>
      <material name="gripper"/>
    </visual>
    <collision>
      <origin rpy="0 0 0" xyz="-0.018906 -0.261251 -0.207219"/>
      <geometry>
        <mesh filename="package://arbie_description/meshes/gripper_right_contact.stl"/>
      </geometry>
    </collision>
  </link>
  
--&gt;


  <link name="gripper_left_driver_link">
    <inertial>
      <origin rpy="0 0 0" xyz="4.552690735497994e-07 -0.030940033304886344 0.004350583148282683"/>
      <mass value="0.013747989643093032"/>
      <inertia ixx="5e-06" ixy="0.0" ixz="0.0" iyy="2e-06" iyz="-1e-06" izz="4e-06"/>
    </inertial>
    <visual>
      <origin rpy="0 0 0" xyz="0.013094 -0.263651 -0.172219"/>
      <geometry>
        <mesh filename="package://arbie_description/meshes/gripper_left_driver.stl"/>
      </geometry>
      <material name="gripper"/>
    </visual>
    <collision>
      <origin rpy="0 0 0" xyz="0.013094 -0.263651 -0.172219"/>
      <geometry>
        <mesh filename="package://arbie_description/meshes/gripper_left_driver.stl"/>
      </geometry>
    </collision>
  </link>
  <link name="gripper_left_contact_link">
    <inertial>
      <origin rpy="0 0 0" xyz="-0.0049669191825520796 -0.01899661466926142 0.016466890477460527"/>
      <mass value="0.023712538812289255"/>
      <inertia ixx="7e-06" ixy="-1e-06" ixz="-2e-06" iyy="7e-06" iyz="-1e-06" izz="4e-06"/>
    </inertial>
    <visual>
      <origin rpy="0 0 0" xyz="0.013094 -0.261251 -0.207219"/>
      <geometry>
        <mesh filename="package://arbie_description/meshes/gripper_left_contact.stl"/>
      </geometry>
      <material name="gripper"/>
    </visual>
    <collision>
      <origin rpy="0 0 0" xyz="0.013094 -0.261251 -0.207219"/>
      <geometry>
        <mesh filename="package://arbie_description/meshes/gripper_left_contact.stl"/>
      </geometry>
    </collision>
  </link>
  <link name="gripper_left_linkage_link">
    <inertial>
      <origin rpy="0 0 0" xyz="-0.005348977862044579 0.00500022075444323 0.01750042810563407"/>
      <mass value="0.00386409068463368"/>
      <inertia ixx="1e-06" ixy="0.0" ixz="0.0" iyy="1e-06" iyz="-0.0" izz="0.0"/>
    </inertial>
    <visual>
      <origin rpy="0 0 0" xyz="0.03671 -0.238651 -0.153719"/>
      <geometry>
        <mesh filename="package://arbie_description/meshes/gripper_left_linkage.stl"/>
      </geometry>
      <material name="gripper"/>
    </visual>
    <collision>
      <origin rpy="0 0 0" xyz="0.03671 -0.238651 -0.153719"/>
      <geometry>
        <mesh filename="package://arbie_description/meshes/gripper_left_linkage.stl"/>
      </geometry>
    </collision>
  </link>
  <!-- RIGID JOINTS -->
  <joint name="rigid_arm_upper_to_wrist_base_joint" type="fixed">
    <origin rpy="0 0 0" xyz="-0.017 0.035 0.27"/>
    <parent link="arm_upper_link"/>
    <child link="wrist_base_link"/>
  </joint>
  <!-- ARM JOINTS -->
  <joint name="arm_1_joint" type="continuous">
    <origin rpy="0 0 0" xyz="-0.000694 0.107101 0.186272"/>
    <parent link="body_link"/>
    <child link="arm_base_link"/>
    <axis xyz="0 1 0"/>
  </joint>
  <transmission name="arm_1_tran">
    <type>transmission_interface/SimpleTransmission</type>
    <joint name="arm_1_joint">
      <hardwareInterface>hardware_interface/EffortJointInterface</hardwareInterface>
    </joint>
    <actuator name="arm_1_actuator">
      <hardwareInterface>EffortJointInterface</hardwareInterface>
      <mechanicalReduction>1</mechanicalReduction>
    </actuator>
  </transmission>
  <joint name="arm_2_joint" type="continuous">
    <origin rpy="0 0 0" xyz="0.0535 0.067 0.000223"/>
    <parent link="arm_base_link"/>
    <child link="arm_lower_link"/>
    <axis xyz="1 0 0"/>
  </joint>
  <transmission name="arm_2_transmission">
    <type>transmission_interface/SimpleTransmission</type>
    <joint name="arm_2_joint">
      <hardwareInterface>EffortJointInterface</hardwareInterface>
    </joint>
    <actuator name="arm_2_actuator">
      <hardwareInterface>EffortJointInterface</hardwareInterface>
      <mechanicalReduction>1</mechanicalReduction>
    </actuator>
  </transmission>
  <joint name="arm_3_joint" type="continuous">
    <origin rpy="0 0 0" xyz="-0.033 0.035 -0.45"/>
    <parent link="arm_lower_link"/>
    <child link="arm_upper_link"/>
    <axis xyz="-1 0 0"/>
  </joint>
  <transmission name="arm_3_transmission">
    <type>transmission_interface/SimpleTransmission</type>
    <joint name="arm_3_joint">
      <hardwareInterface>hardware_interface/EffortJointInterface</hardwareInterface>
    </joint>
    <actuator name="arm_3_actuator">
      <hardwareInterface>EffortJointInterface</hardwareInterface>
      <mechanicalReduction>1</mechanicalReduction>
    </actuator>
  </transmission>
  <!-- WRIST JOINTS -->
  <joint name="wrist_pitch_joint" type="continuous">
    <origin rpy="0 0 0" xyz="0.0334 0.0 0.0535"/>
    <parent link="wrist_base_link"/>
    <child link="wrist_pitch_link"/>
    <axis xyz="1 0 0"/>
  </joint>
  <transmission name="wrist_pitch_transmission">
    <type>transmission_interface/SimpleTransmission</type>
    <joint name="wrist_pitch_joint">
      <hardwareInterface>hardware_interface/EffortJointInterface</hardwareInterface>
    </joint>
    <actuator name="wrist_pitch_actuator">
      <hardwareInterface>EffortJointInterface</hardwareInterface>
      <mechanicalReduction>1</mechanicalReduction>
    </actuator>
  </transmission>
  <joint name="wrist_yaw_joint" type="continuous">
    <origin rpy="0 0 0" xyz="-0.0333 -0.01845 0.063124"/>
    <parent link="wrist_pitch_link"/>
    <child link="wrist_yaw_link"/>
    <axis xyz="0 -1 0"/>
  </joint>
  <transmission name="wrist_yaw_transmsission">
    <type>transmission_interface/SimpleTransmission</type>
    <joint name="wrist_yaw_joint">
      <hardwareInterface>hardware_interface/EffortJointInterface</hardwareInterface>
    </joint>
    <actuator name="wrist_yaw_actuator">
      <hardwareInterface>EffortJointInterface</hardwareInterface>
      <mechanicalReduction>1</mechanicalReduction>
    </actuator>
  </transmission>
  <joint name="wrist_roll_joint" type="continuous">
    <origin rpy="0 0 -1.5708" xyz="0.0 0.019 0.0454"/>
    <parent link="wrist_yaw_link"/>
    <child link="gripper_base_link"/>
    <axis xyz="0 0 1"/>
  </joint>
  <transmission name="wrist_roll_transmission">
    <type>transmission_interface/SimpleTransmission</type>
    <joint name="wrist_roll_joint">
      <hardwareInterface>hardware_interface/EffortJointInterface</hardwareInterface>
    </joint>
    <actuator name="wrist_roll_actuator">
      <hardwareInterface>EffortJointInterface</hardwareInterface>
      <mechanicalReduction>1</mechanicalReduction>
    </actuator>
  </transmission>
  <!-- GRIPPER DRIVEN JOINTS -->
  <joint name="gripper_right_joint" type="continuous">
    <origin rpy="0 -0.348 0" xyz="0.016 0.019 0.0487"/>
    <parent link="gripper_base_link"/>
    <child link="gripper_right_driver_link"/>
    <axis xyz="0 1 0"/>
  </joint>
  <transmission name="gripper_right_driver_transmission">
    <type>transmission_interface/SimpleTransmission</type>
    <joint name="gripper_right_joint">
      <hardwareInterface>hardware_interface/EffortJointInterface</hardwareInterface>
    </joint>
    <actuator name="gripper_right_driver_actuator">
      <hardwareInterface>EffortJointInterface</hardwareInterface>
      <mechanicalReduction>1</mechanicalReduction>
    </actuator>
  </transmission>
  <joint name="gripper_left_joint" type="continuous">
    <origin rpy="0 0.348 0" xyz="-0.016 0.019 0.0487"/>
    <parent link="gripper_base_link"/>
    <child link="gripper_left_driver_link"/>
    <axis xyz="0 1 0"/>
  </joint>
  <transmission name="gripper_left_driver_transmission">
    <type>transmission_interface/SimpleTransmission</type>
    <joint name="gripper_left_joint">
      <hardwareInterface>hardware_interface/EffortJointInterface</hardwareInterface>
    </joint>
    <actuator name="gripper_left_driver_actuator">
      <hardwareInterface>EffortJointInterface</hardwareInterface>
      <mechanicalReduction>1</mechanicalReduction>
    </actuator>
  </transmission>
  <!-- GRIPPER DEPENDENT JOINTS -->
  <joint name="gripper_right_contact_dependent_joint" type="continuous">
    <origin rpy="0 0.348 0" xyz="0.0 -0.0024 0.035"/>
    <parent link="gripper_right_driver_link"/>
    <child link="gripper_right_contact_link"/>
    <axis xyz="0 1 0"/>
    <mimic joint="gripper_right_joint" multiplier="-1"/>
  </joint>
  <joint name="gripper_left_contact_dependent_joint" type="continuous">
    <origin rpy="0 -0.348 0" xyz="0.0 -0.0024 0.035"/>
    <parent link="gripper_left_driver_link"/>
    <child link="gripper_left_contact_link"/>
    <axis xyz="0 1 0"/>
    <mimic joint="gripper_left_joint" multiplier="-1"/>
  </joint>
  <joint name="gripper_right_linkage_dependent_joint" type="continuous">
    <origin rpy="0 -0.348 0" xyz="0.039616 -0.006 0.0302"/>
    <parent link="gripper_base_link"/>
    <child link="gripper_right_linkage_link"/>
    <axis xyz="0 1 0"/>
    <mimic joint="gripper_right_joint"/>
  </joint>
  <joint name="gripper_left_linkage_dependent_joint" type="continuous">
    <origin rpy="0 0.348 0" xyz="-0.039616 -0.006 0.0302"/>
    <parent link="gripper_base_link"/>
    <child link="gripper_left_linkage_link"/>
    <axis xyz="0 1 0"/>
    <mimic joint="gripper_left_joint"/>
  </joint>
  <!-- GAZEBO ONLY JOINTS - CLOSE LOOP -->
  <gazebo>
    <joint name="gripper_right_linkage_dependent_2_joint" type="revolute">
      <pose>0 0 0 0 0 0</pose>
      <parent>gripper_right_linkage_link</parent>
      <child>gripper_right_contact_link&quot;</child>
      <axis>
        <xyz>0 1 0</xyz>
      </axis>
    </joint>
    <joint name="gripper_left_linkage_dependent_2_joint" type="revolute">
      <pose>0 0 0 0 0 0</pose>
      <parent>gripper_left_linkage_link</parent>
      <child>gripper_left_contact_link&quot;</child>
      <axis>
        <xyz>0 1 0</xyz>
      </axis>
    </joint>
  </gazebo>
</robot>
